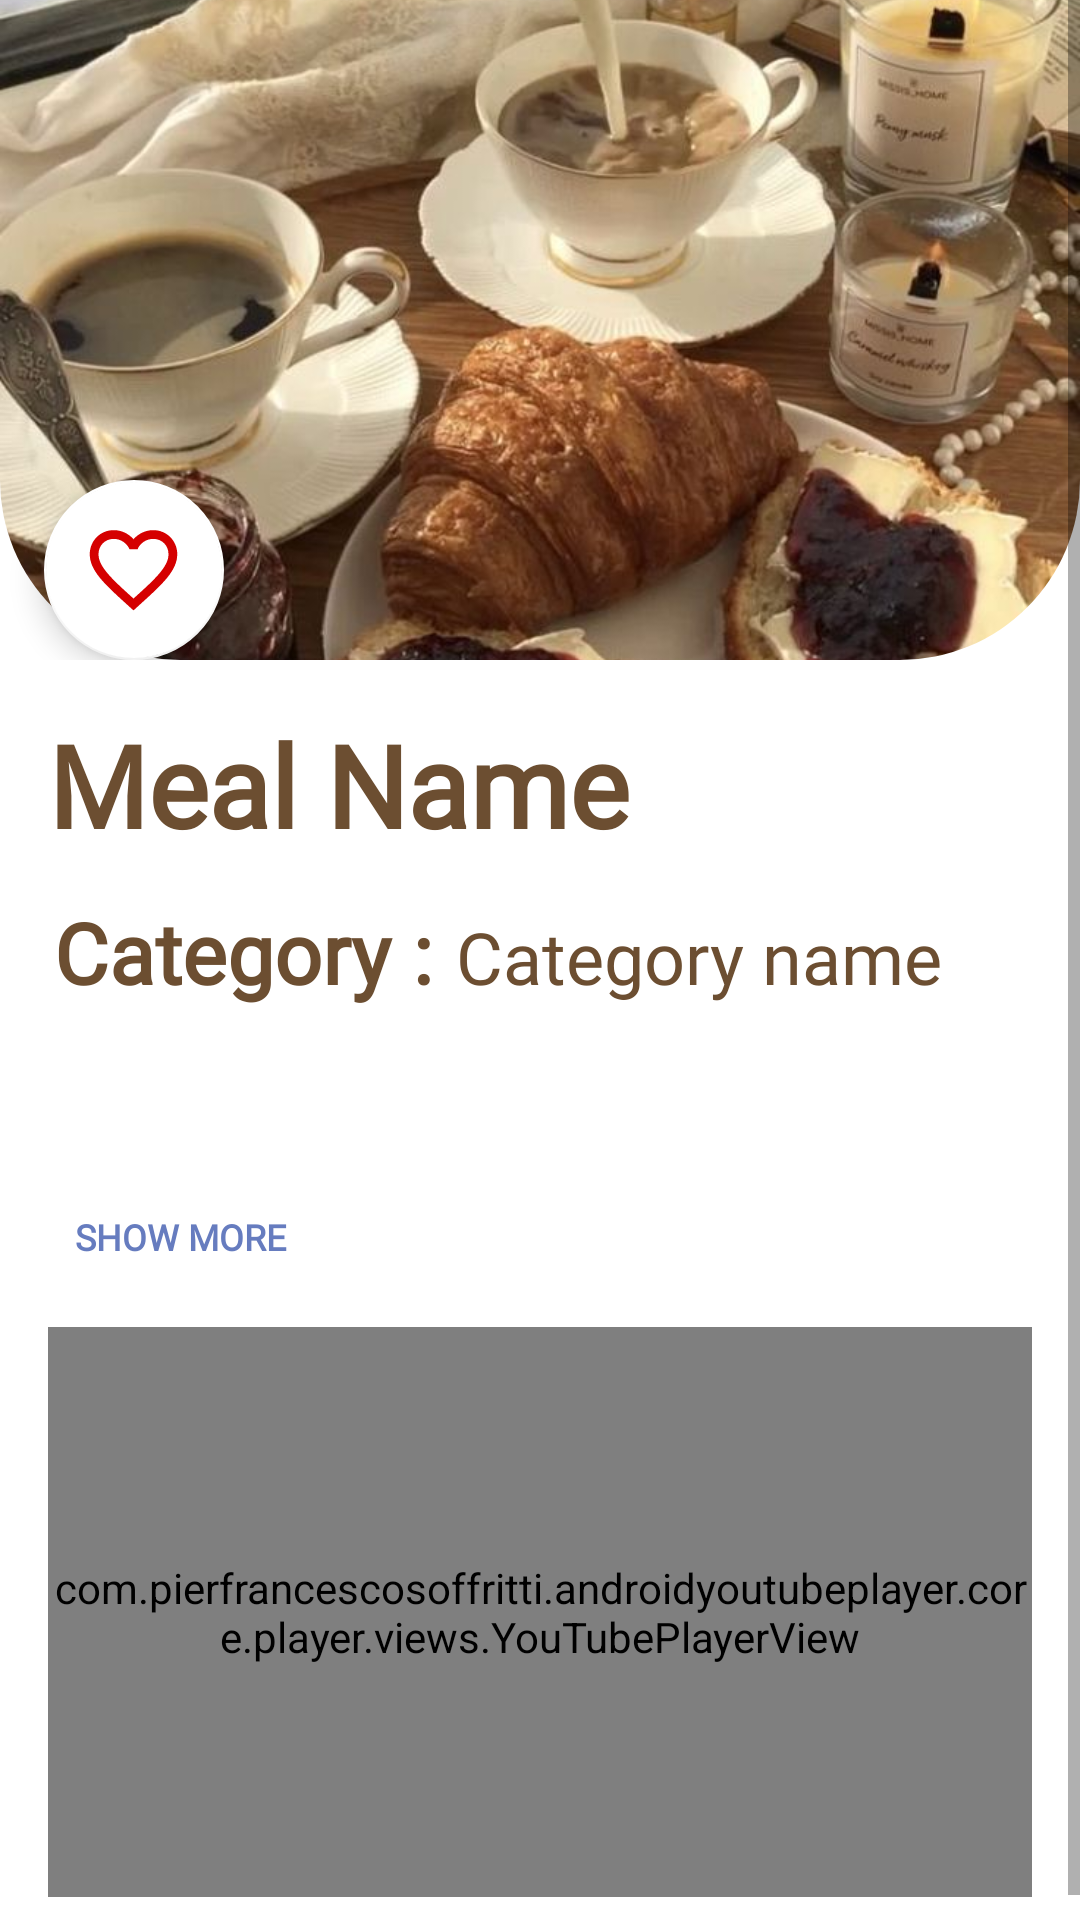

Icon click points for this 1080*1920 phone screenshot, format [x,y]:
ِAdd To Favorite: [134,570]
